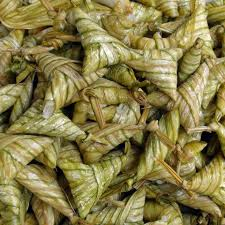kanomtom: (23, 42, 109, 119), (48, 144, 132, 220), (71, 6, 143, 84), (124, 41, 189, 104)
